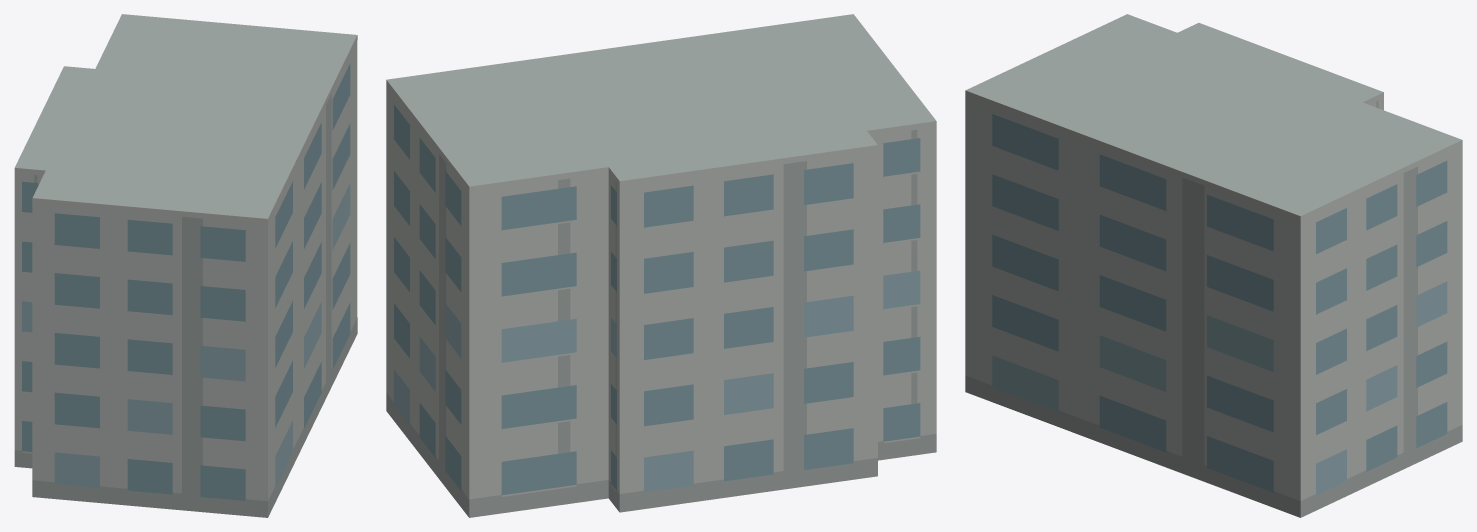
File: survey-upis-33001226.glb
3 renders of one model, left to right at view 1: azimuth 30°, elevation 25°; view 2: azimuth 150°, elevation 25°; view 3: azimuth 270°, elevation 25°, orthographic. The views are drawn at different scales.
Parts seen in each view (by area): view 1: survey-upis-33001226.tmp; view 2: survey-upis-33001226.tmp; view 3: survey-upis-33001226.tmp.
Part boxes in pixels (x1,y1,x2,y2): survey-upis-33001226.tmp: (14,14,357,517); survey-upis-33001226.tmp: (386,14,936,517); survey-upis-33001226.tmp: (965,14,1462,517).
Bounding box in the file's own units: 19.35 × 13.45 × 20.1.
